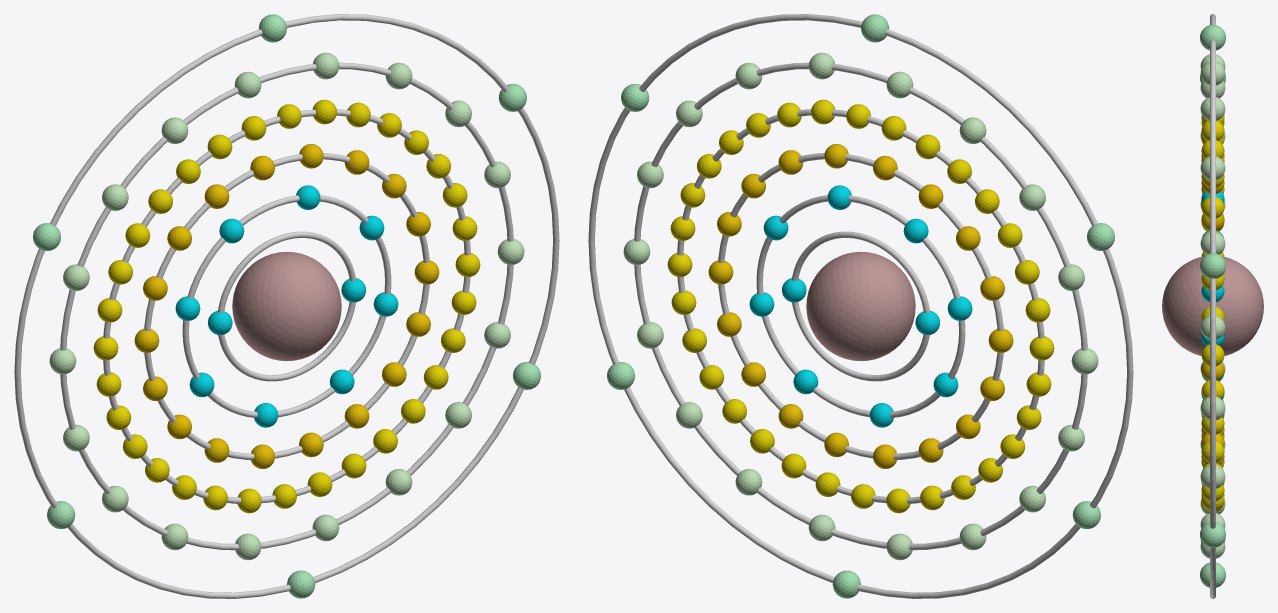
The picture shows the model from 3 angles, left to right: view 1: azimuth 30°, elevation 25°; view 2: azimuth 150°, elevation 25°; view 3: azimuth 270°, elevation 25°; orthographic projection. The views are drawn at different scales.
Parts seen in each view (by area): view 1: world; view 2: world; view 3: world.
Boxes of the visible parts, x1=… form: world: x1=14, y1=14, x2=559, y2=598; world: x1=588, y1=14, x2=1133, y2=598; world: x1=1162, y1=14, x2=1263, y2=598.
Size of the model in its own units: 2.53 by 2.61 by 0.44.
